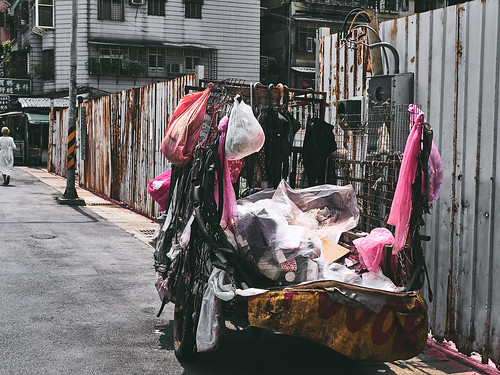building: (22, 1, 262, 104), (262, 1, 397, 95)
trash: (162, 80, 436, 357)
